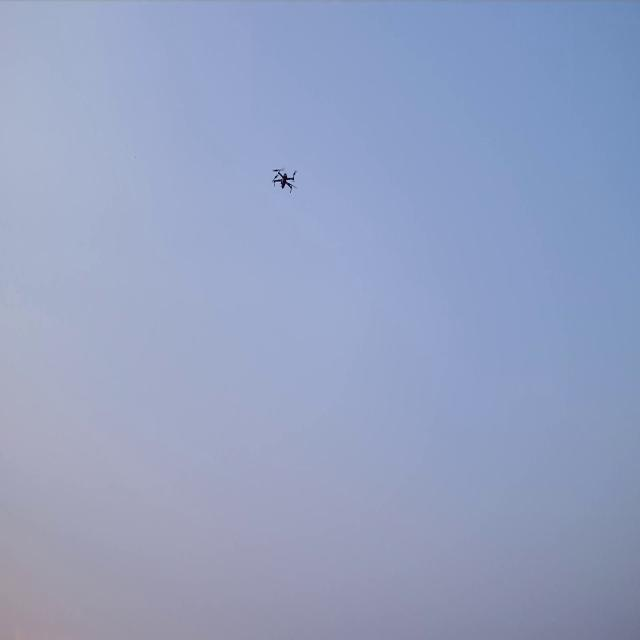UAV: (271, 164, 299, 196)
